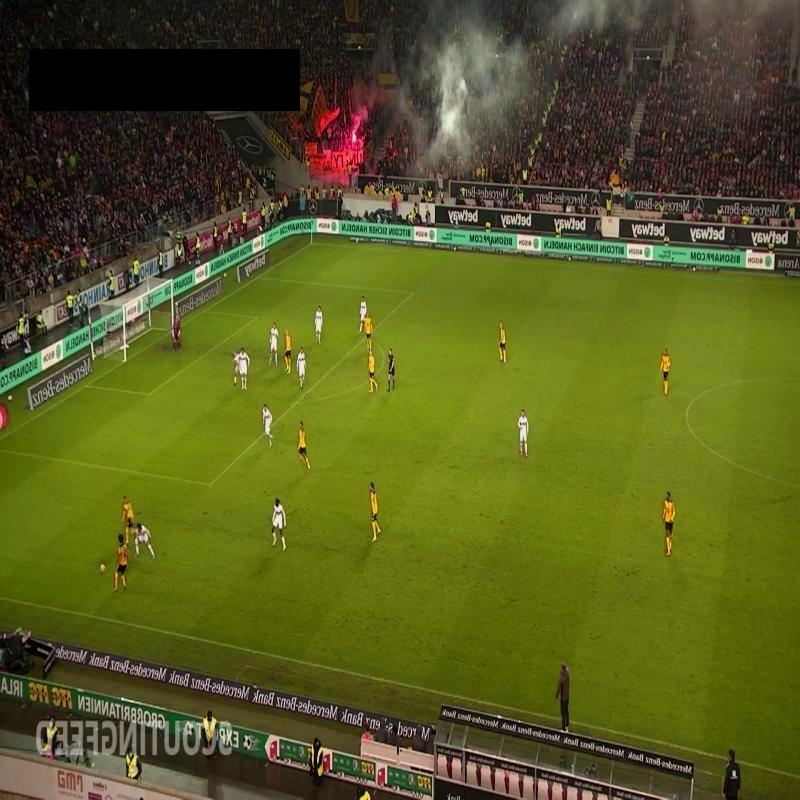1: (306, 236, 320, 249)
10: (360, 328, 374, 342)
11: (290, 395, 304, 409)
12: (204, 477, 218, 492)
2: (253, 269, 266, 283)
3: (198, 303, 212, 316)
4: (80, 378, 94, 392)
7: (251, 309, 265, 323)
8: (142, 386, 157, 399)
9: (407, 284, 421, 298)
c: (680, 406, 694, 420)
